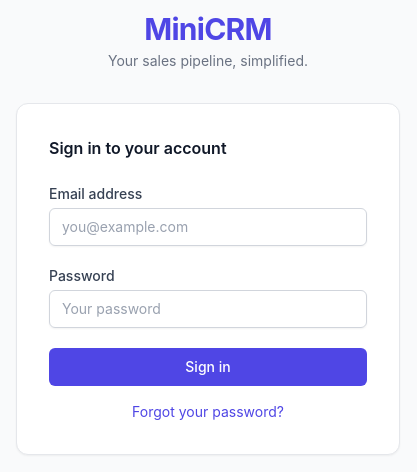
Test case: LoginPage › disables the submit button while the login request is in flight
Type "admin@example.com" into the field with test id "login-email".
click(208, 227); type("admin@example.com")  # box [49,208,367,246]
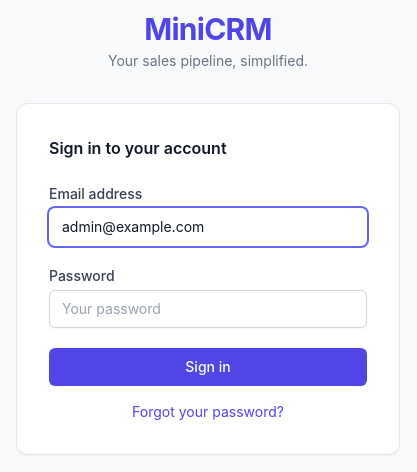
Type "correct-password" into the password field with test id "login-password".
click(208, 309); type("correct-password")  # box [49,290,367,328]
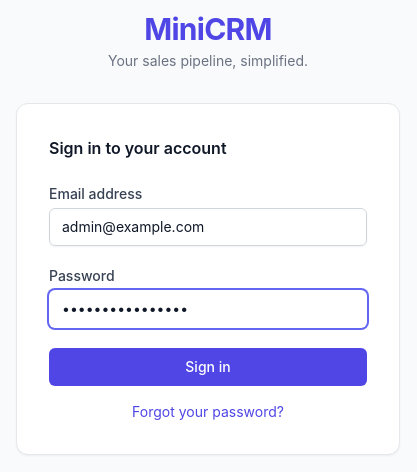
Click the button with test id "login-submit".
click(208, 367)  # box [49,348,367,386]
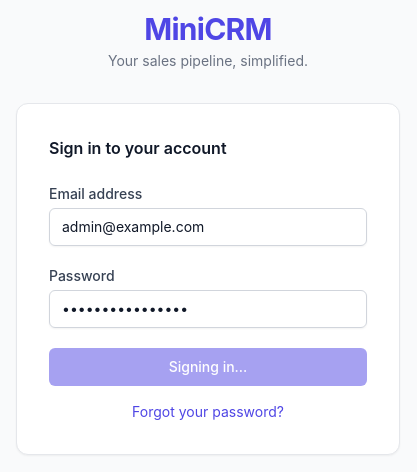
Expected: the button with test id "login-submit" is disabled, [49,348,367,386]
